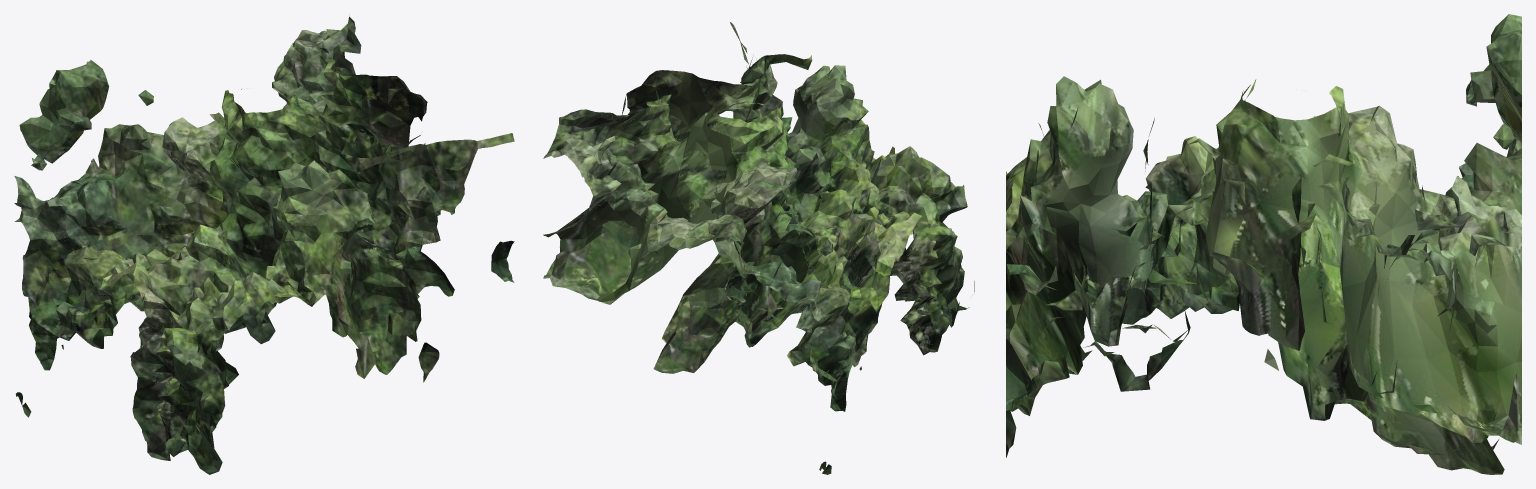
3 renders of one model, left to right at view 1: azimuth 30°, elevation 25°; view 2: azimuth 150°, elevation 25°; view 3: azimuth 270°, elevation 25°, orthographic. The views are drawn at different scales.
Bounding box in the file's own units: 26.11 × 25.92 × 26.11.
Materials: 8 (8 with a texture image).
